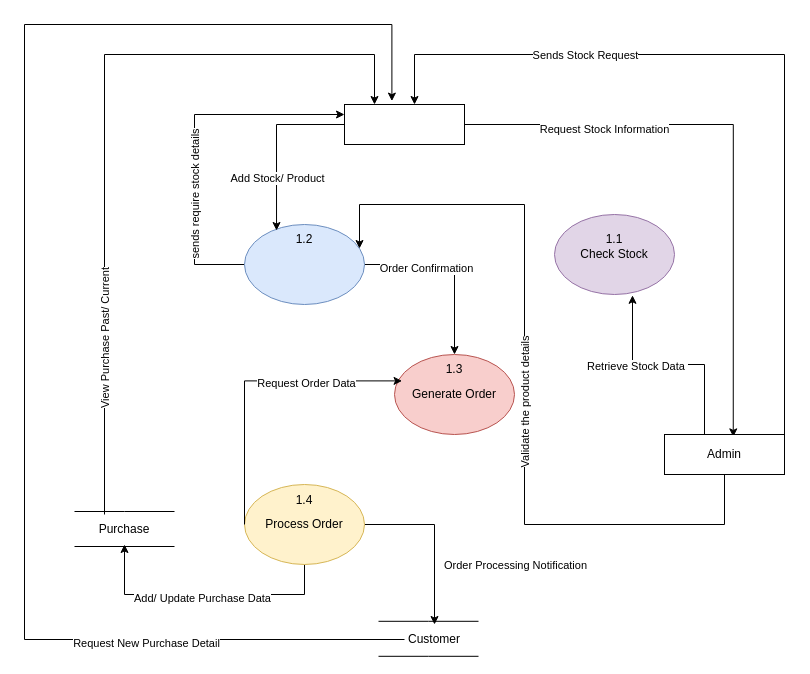
Image size: 810x674. Some labels were removed from this diagram. The box of each missing label's shape, as (x1, y1, x2, y2) in pixels:
Add Product: (244, 224, 364, 304)
Supplier: (344, 104, 464, 144)
